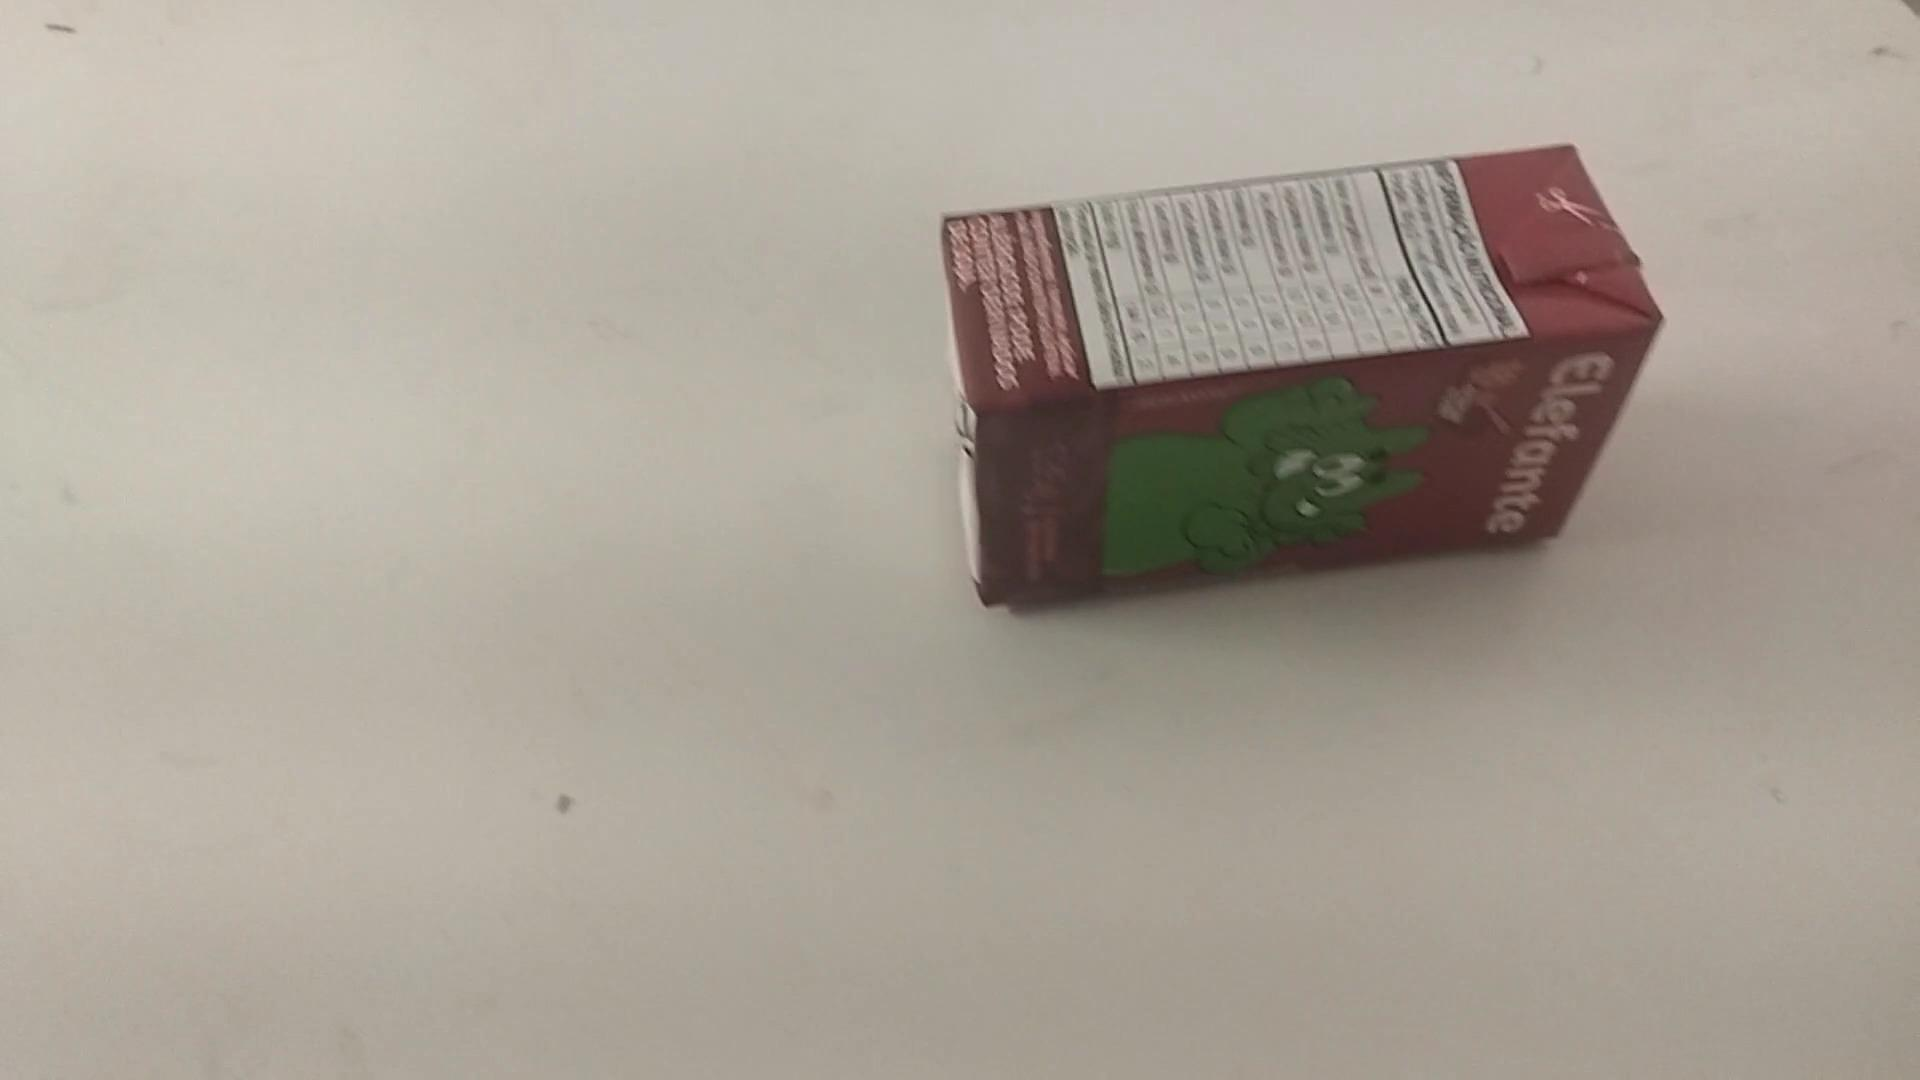tomate: (943, 137, 1663, 612)
